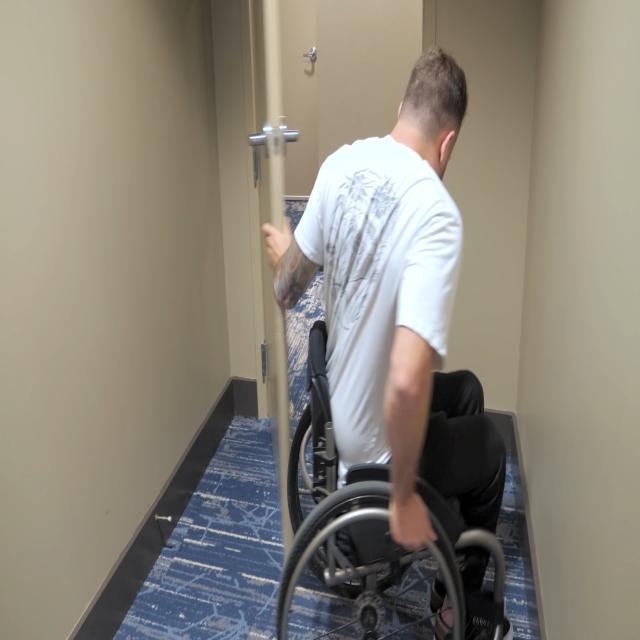wheelchairs: (274, 316, 512, 640)
